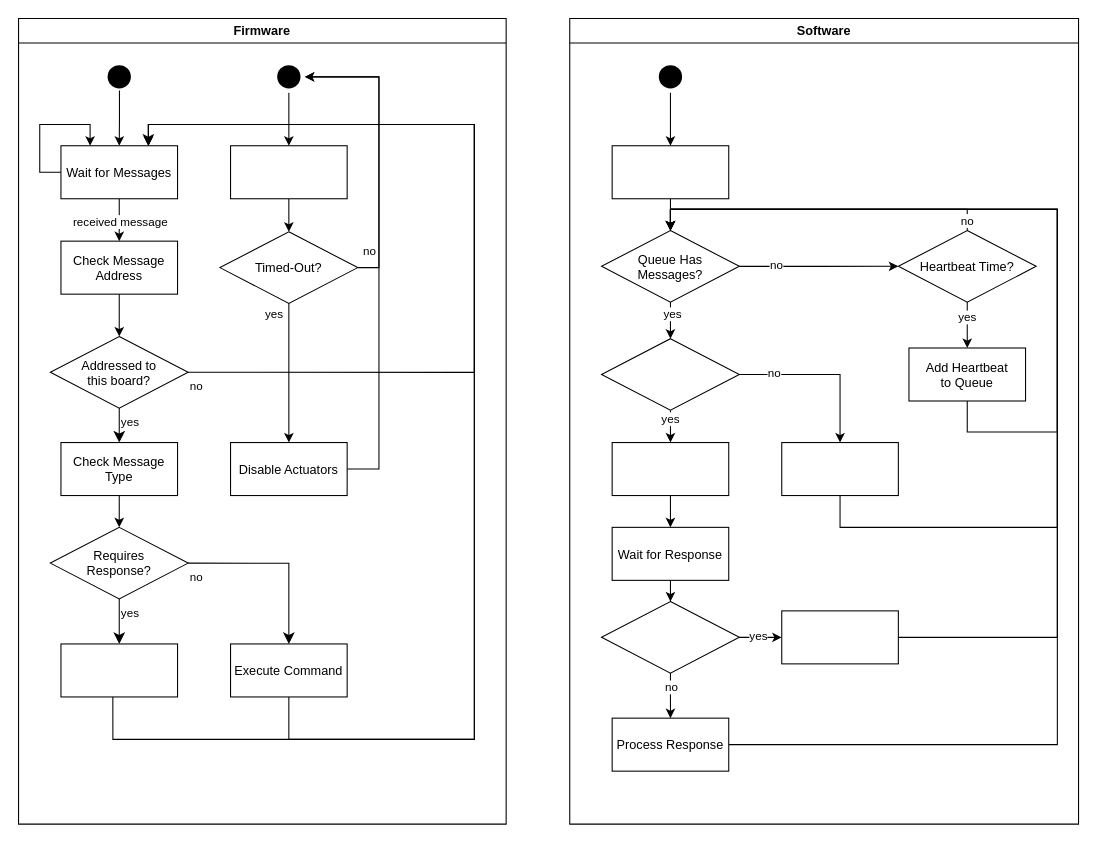
Image size: 1097x843. Some labels were removed from this diagram. The centre of each missing label's shape, as x and y in pixels:
Add Configuration Messages to Queue: pixel 670 172
Check Heartbeat Timeout: pixel 288 172
Queue Contains a Request?: pixel 669 374
Response Times Out (200 ms)?: pixel 669 636
Send Request: pixel 670 468
Send Response: pixel 119 670
Send Top of Queue: pixel 839 468
Set board to "disconnected": pixel 839 637
